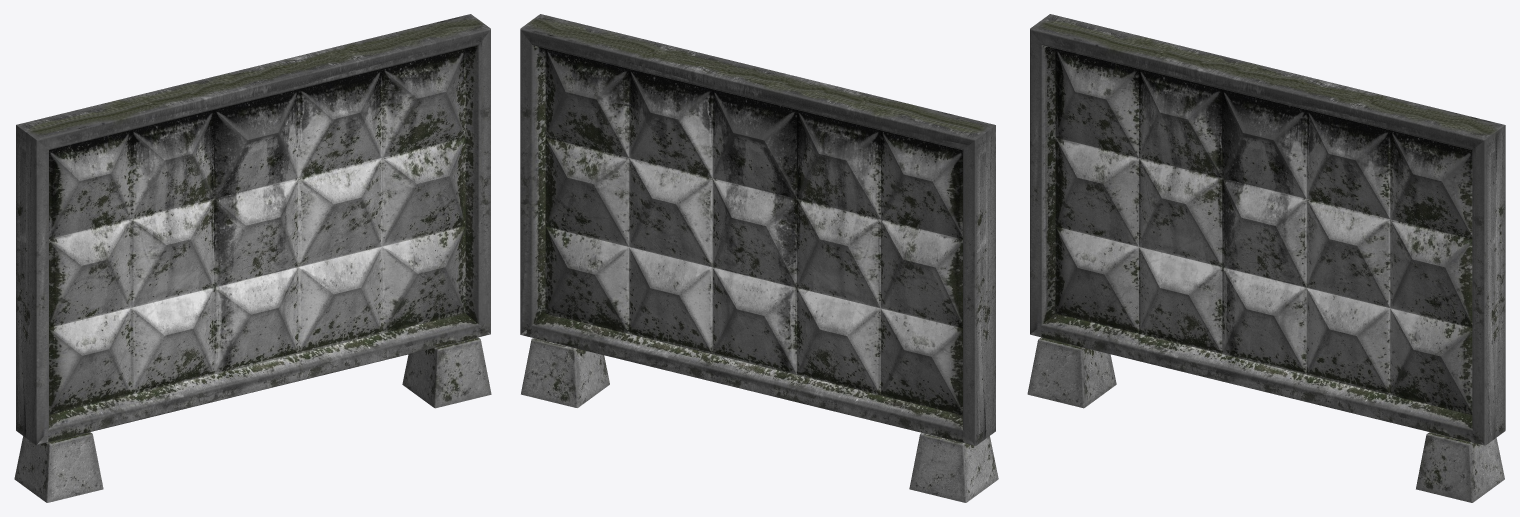
File: beton.glb
3 views of the same model, side by side, from view 1: azimuth 30°, elevation 25°; view 2: azimuth 150°, elevation 25°; view 3: azimuth 330°, elevation 25° (orthographic).
Visible parts, largest first — view 1: beton_wall_block; view 2: beton_wall_block; view 3: beton_wall_block.
Boxes of the visible parts, x1,y1,x2,y2 form: beton_wall_block: (14, 14, 491, 502); beton_wall_block: (520, 14, 998, 502); beton_wall_block: (1027, 14, 1505, 502).
Size of the model in its own units: 3.18 by 2.4 by 0.3992.
1 material, 1 textured.
